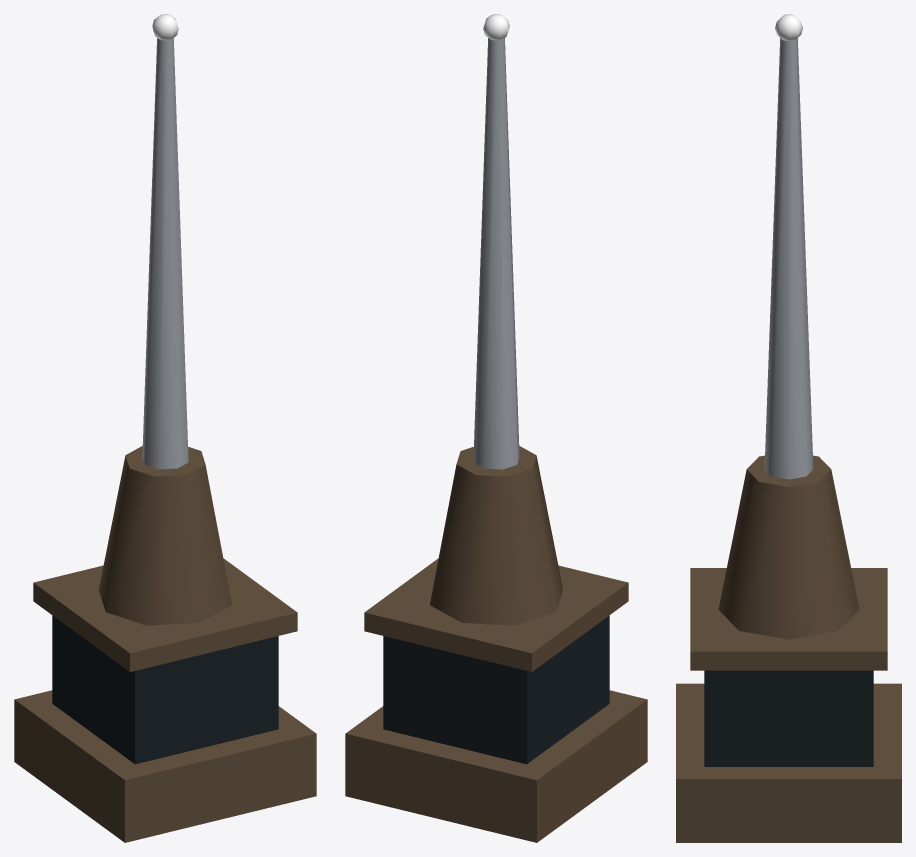
The model's file is EIFFEL_TOP.glb.
3 renders of one model, left to right at view 1: azimuth 30°, elevation 25°; view 2: azimuth 150°, elevation 25°; view 3: azimuth 270°, elevation 25°, orthographic. The views are drawn at different scales.
Visible parts, largest first — view 1: paint_0, glass_1, steel_2, lamps_3; view 2: paint_0, glass_1, steel_2, lamps_3; view 3: paint_0, glass_1, steel_2, lamps_3.
Boxes of the visible parts, box(x1,y1,x2,y2) form: paint_0: box(14, 446, 316, 842); glass_1: box(52, 615, 278, 764); steel_2: box(142, 38, 188, 469); lamps_3: box(152, 14, 178, 40); paint_0: box(345, 446, 647, 842); glass_1: box(383, 615, 609, 764); steel_2: box(473, 38, 519, 469); lamps_3: box(483, 14, 509, 40); paint_0: box(676, 455, 901, 842); glass_1: box(704, 670, 873, 766); steel_2: box(764, 38, 813, 479); lamps_3: box(775, 14, 802, 41).
Size of the model in its own units: 3.2 by 12.2 by 3.2.
